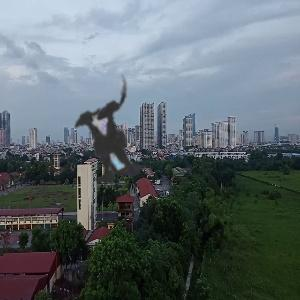drone: (11, 50, 210, 249)
